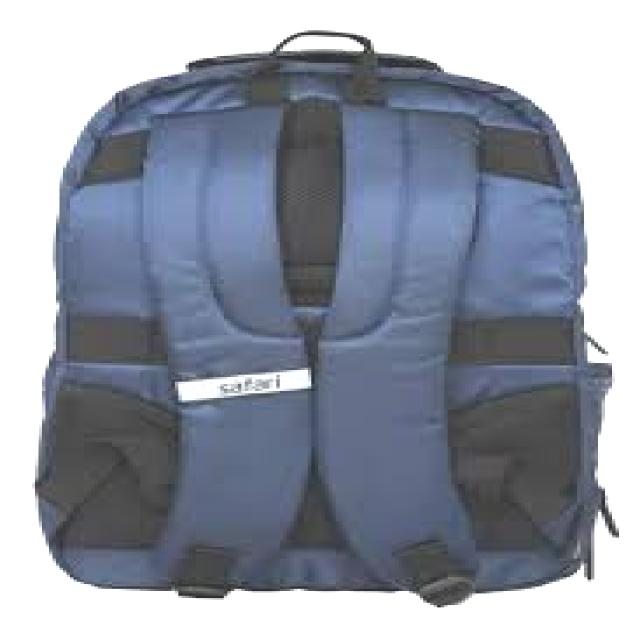backpack: (32, 29, 620, 606)
